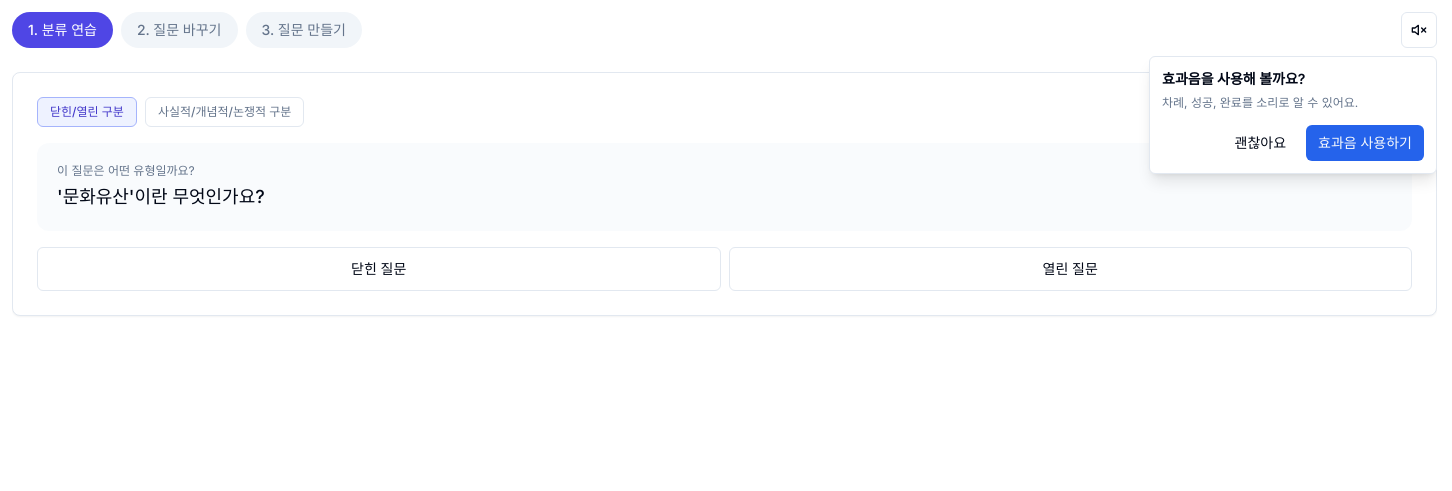
Test: 연습 질문 전달 › 공통 효과음을 켠 뒤 서버가 확정한 분류 결과에 피드백음을 재생한다
Click the button named "효과음 켜기" at (1419, 30), box [1401,12,1437,48]
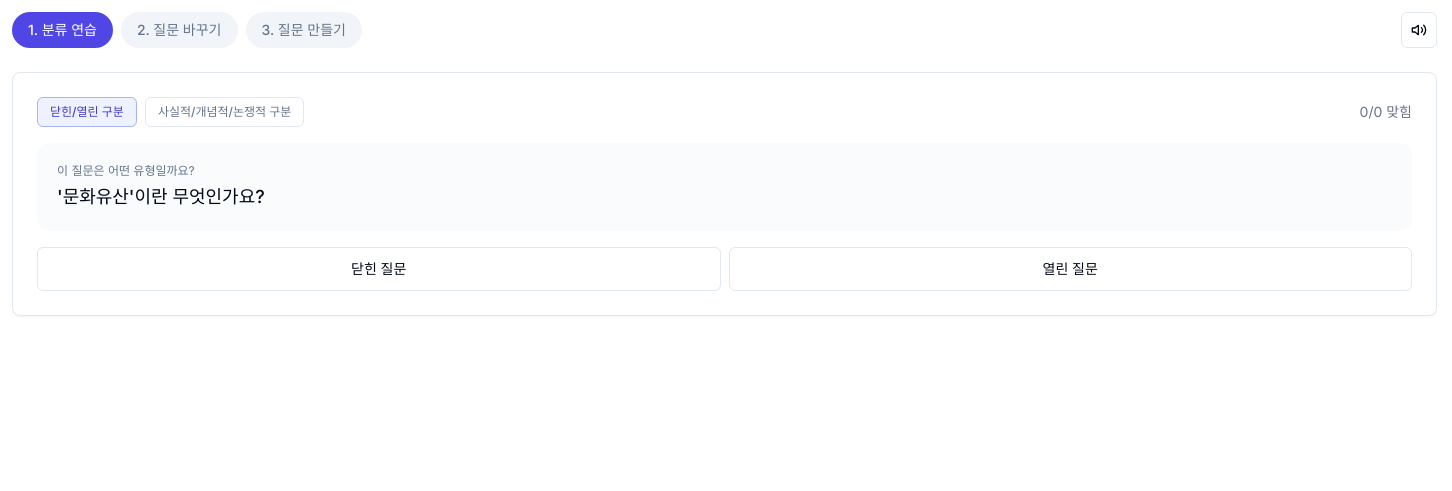
Click the button "닫힌 질문" at (379, 269), box [37,247,720,291]
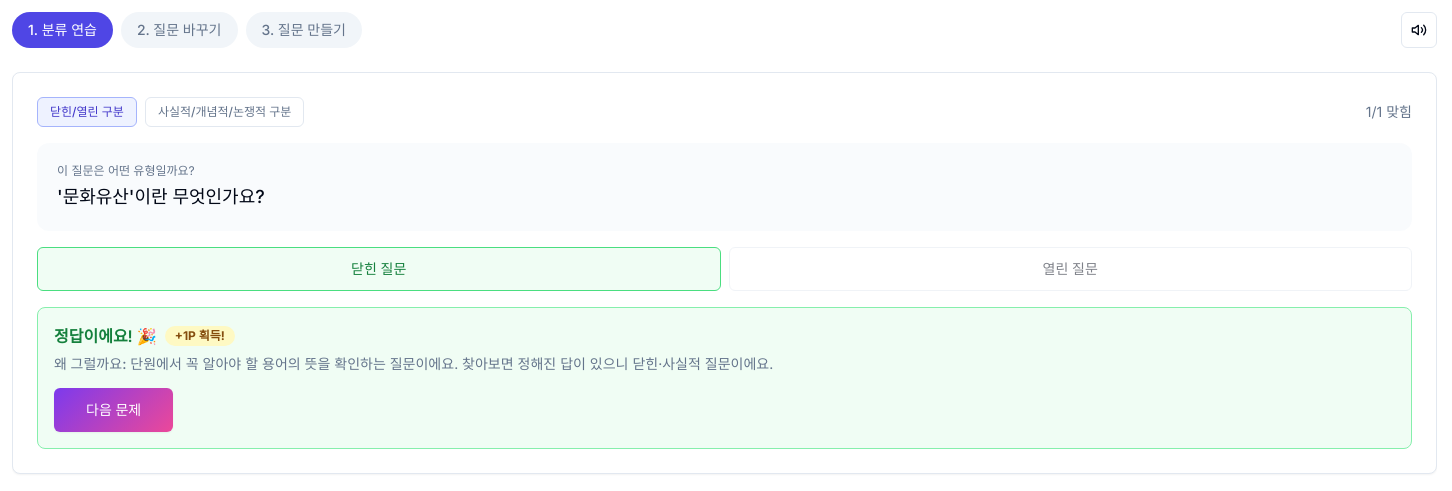
expect the text "정답이에요! 🎉 +1P 획득!" is shown: met, box [54,326,235,346]
